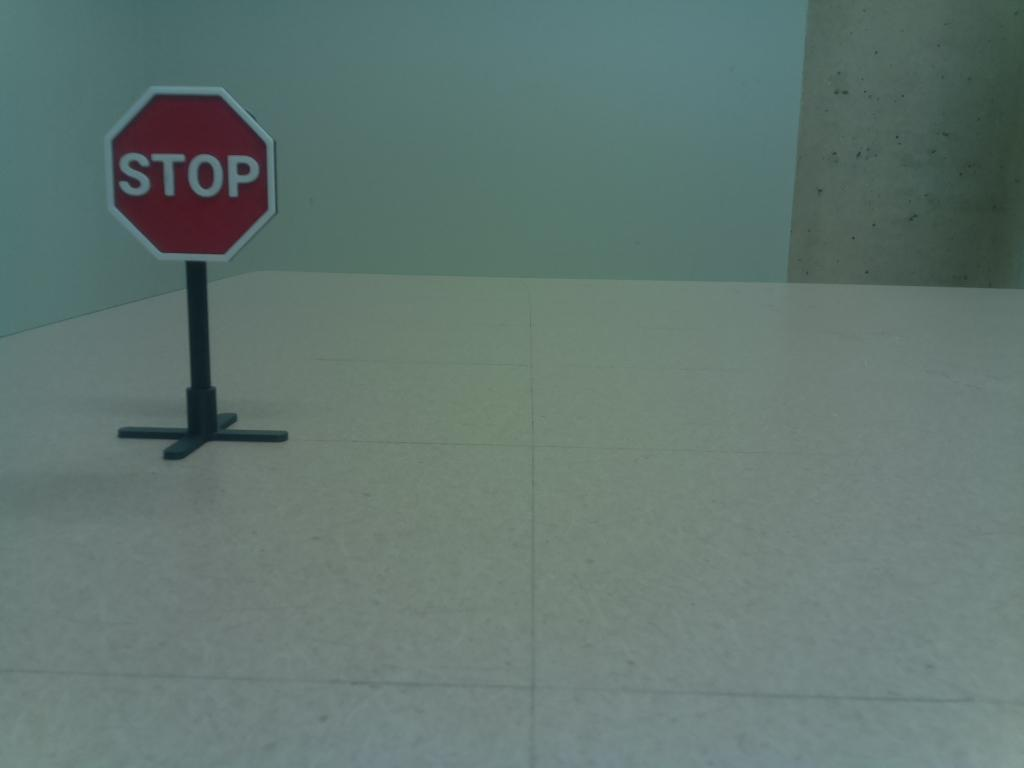sign_stop: (93, 80, 289, 266)
